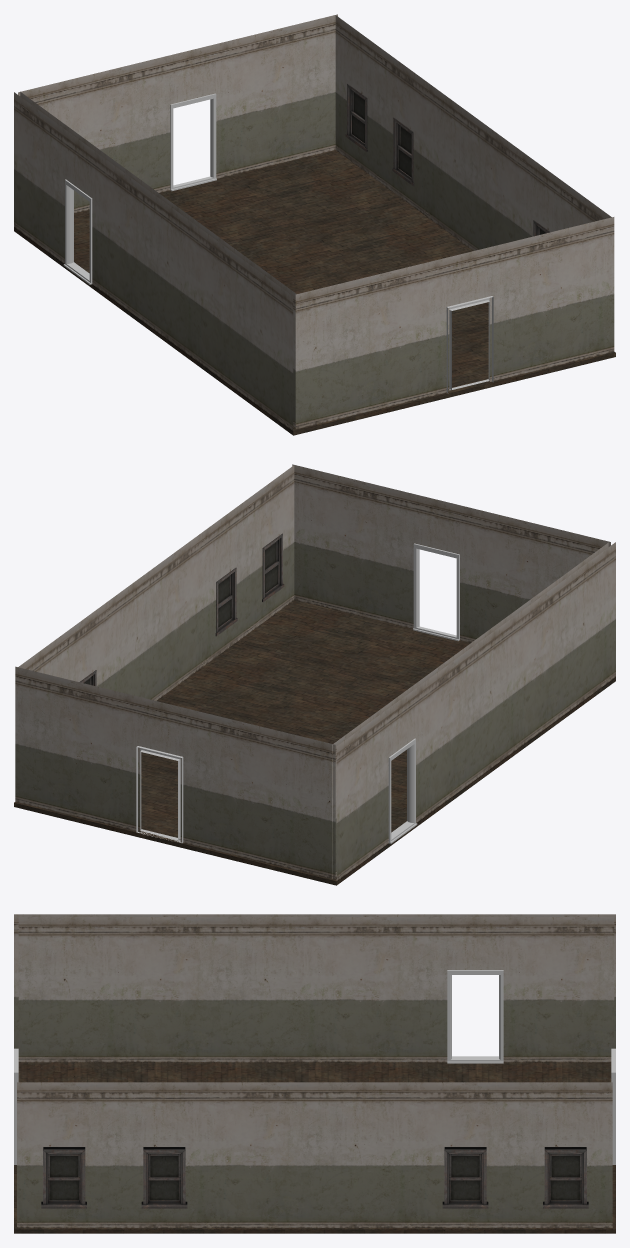
Rendered from room_windows_15m_x_10m_2_doors.fbx.
3 views of the same model, one above another, from view 1: azimuth 30°, elevation 25°; view 2: azimuth 150°, elevation 25°; view 3: azimuth 270°, elevation 25° (orthographic). The views are drawn at different scales.
Visible parts, largest first — view 1: room_windows_15m_x_10m_2_doors; view 2: room_windows_15m_x_10m_2_doors; view 3: room_windows_15m_x_10m_2_doors.
Boxes of the visible parts, <box> form: room_windows_15m_x_10m_2_doors: <box>14,14,615,435</box>; room_windows_15m_x_10m_2_doors: <box>14,464,615,885</box>; room_windows_15m_x_10m_2_doors: <box>14,914,615,1233</box>.
Bounding box in the file's own units: 1023 × 412 × 1500.
